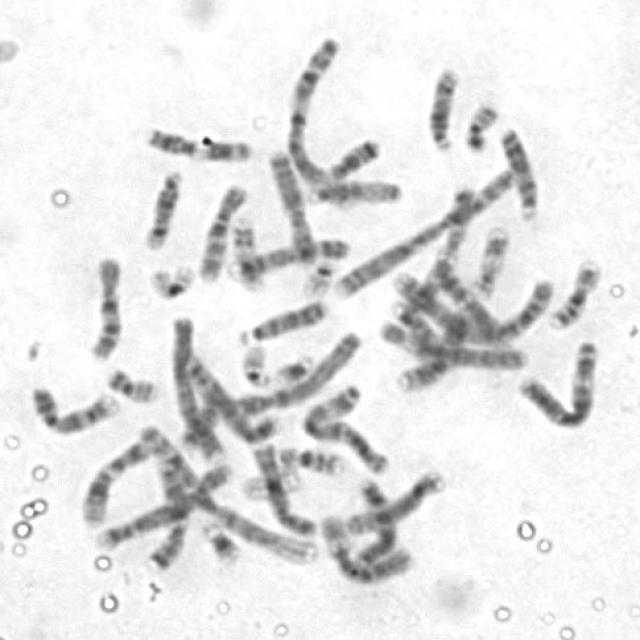A1: (127, 417, 320, 566), (280, 31, 396, 208)
A2: (329, 162, 521, 301), (388, 265, 557, 346)
A3: (294, 377, 395, 477), (511, 333, 604, 431)
B4: (224, 324, 363, 417), (165, 309, 227, 464)
B5: (91, 455, 236, 552), (181, 347, 281, 445)
C10: (192, 178, 250, 284), (82, 249, 126, 363)
C11: (389, 301, 475, 395), (140, 121, 256, 165)
C12: (247, 438, 322, 540), (74, 432, 153, 528)
C6: (372, 315, 532, 372), (315, 506, 417, 587)
C7: (393, 182, 478, 333), (142, 445, 192, 571)
C8: (340, 463, 450, 535), (247, 438, 322, 540)
C9: (227, 232, 352, 286), (24, 378, 124, 438)
D13: (232, 292, 330, 345), (494, 122, 541, 222)
D14: (137, 162, 186, 251), (422, 60, 463, 153)
D15: (429, 255, 513, 351), (299, 172, 406, 208)
E16: (542, 251, 604, 332), (271, 440, 347, 477)
E17: (466, 218, 512, 300), (226, 209, 266, 292)
E18: (177, 389, 227, 452), (322, 131, 384, 181)
F19: (236, 463, 305, 502), (142, 257, 198, 301)
F20: (100, 361, 161, 404), (458, 96, 501, 154)
G21: (197, 513, 244, 566), (270, 347, 316, 386)
G22: (235, 337, 274, 388), (297, 254, 340, 297)
X: (262, 144, 320, 268), (348, 472, 398, 570)
